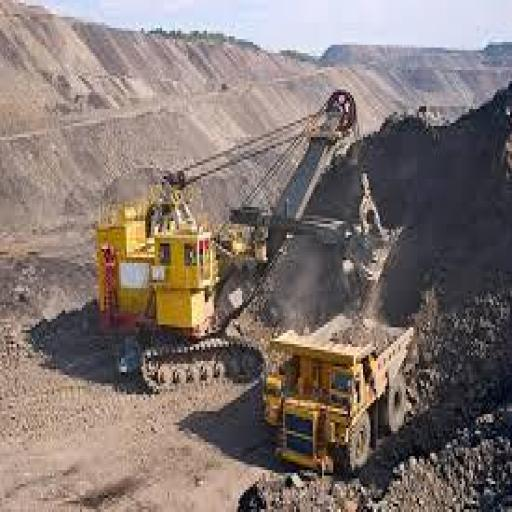Proclainer: (91, 86, 407, 398)
Truck: (255, 301, 423, 484)
